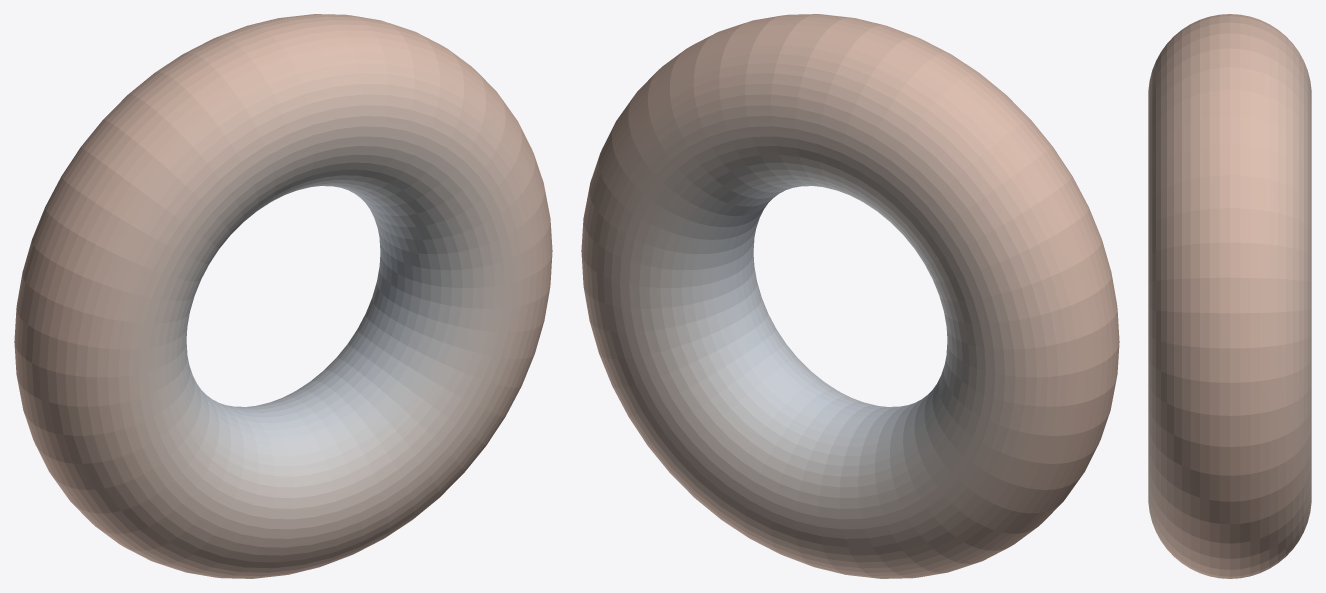
The picture shows the model from 3 angles, left to right: view 1: azimuth 30°, elevation 25°; view 2: azimuth 150°, elevation 25°; view 3: azimuth 270°, elevation 25°; orthographic projection. The views are drawn at different scales.
Parts seen in each view (by area): view 1: world; view 2: world; view 3: world.
Part boxes in pixels (x1=…): world: x1=14, y1=14, x2=552, y2=578; world: x1=581, y1=14, x2=1119, y2=578; world: x1=1148, y1=14, x2=1311, y2=578.
Size of the model in its own units: 25.33 by 25.28 by 7.32.
